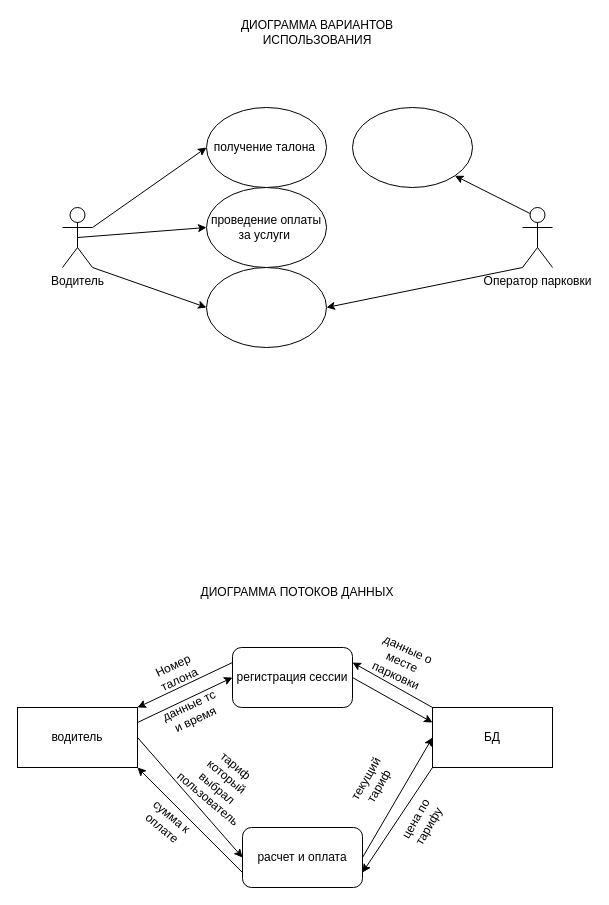
The diagram is 609 pixels wide and 905 high, and some of its shapes have lost their labels. Each missing label, with the centre of its shape:
проверка статуса сессии и выезд с территории: (x=266, y=307)
управление шлагбаумом: (x=412, y=147)
